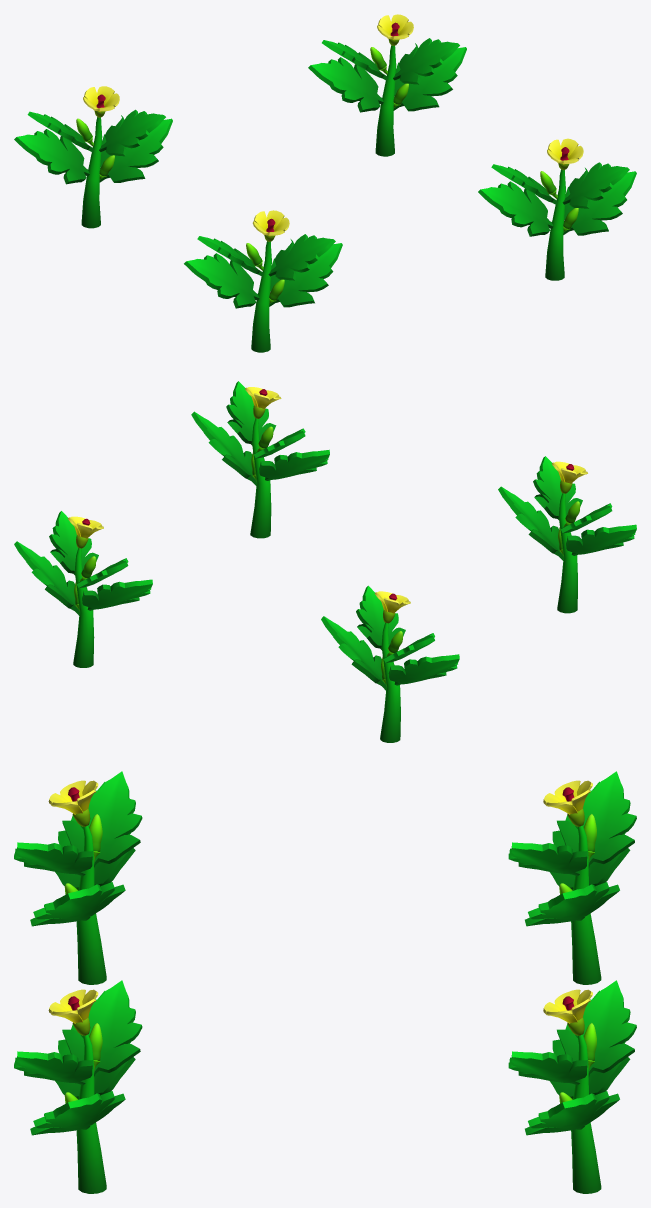
Rendered from Farm_Crop_Okra_Step_02.fbx.
The picture shows the model from 3 angles, top to bottom: view 1: azimuth 30°, elevation 25°; view 2: azimuth 150°, elevation 25°; view 3: azimuth 270°, elevation 25°; orthographic projection. The views are drawn at different scales.
Visible parts, largest first — view 1: Farm_Crop_Okra_Step_02; view 2: Farm_Crop_Okra_Step_02; view 3: Farm_Crop_Okra_Step_02.
Part boxes in pixels (x1,y1,x2,y2): Farm_Crop_Okra_Step_02: (14, 14, 636, 352); Farm_Crop_Okra_Step_02: (14, 381, 636, 742); Farm_Crop_Okra_Step_02: (14, 771, 636, 1193).
Bounding box in the file's own units: 150 × 44 × 126.
